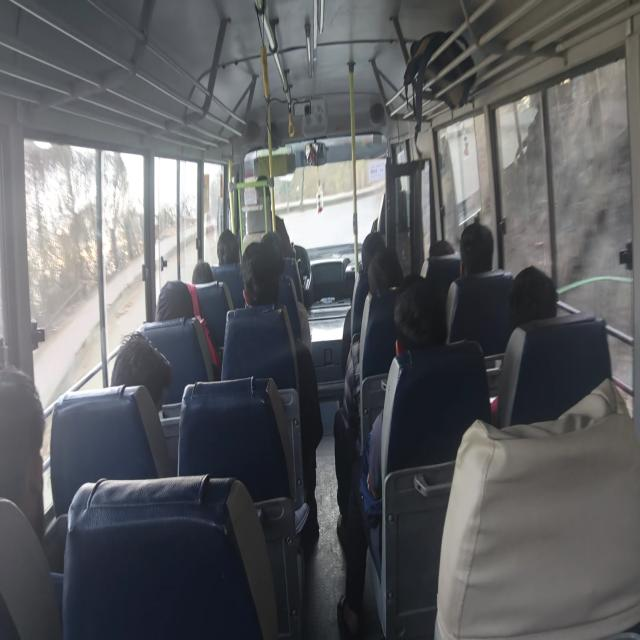person: (336, 274, 448, 636), (238, 234, 323, 542), (334, 246, 404, 538), (0, 365, 67, 576), (490, 264, 558, 420), (340, 231, 386, 374), (446, 221, 494, 342), (110, 330, 173, 412), (155, 260, 214, 322), (507, 264, 557, 329), (420, 238, 455, 278), (216, 229, 240, 265), (191, 259, 214, 285)
